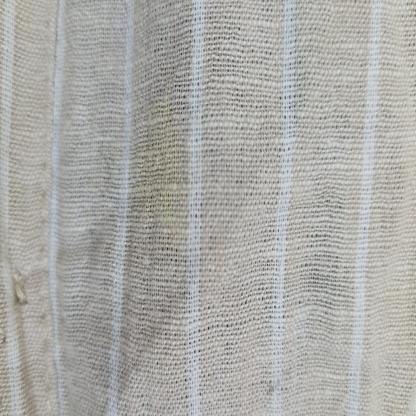spot: (126, 86, 194, 264)
